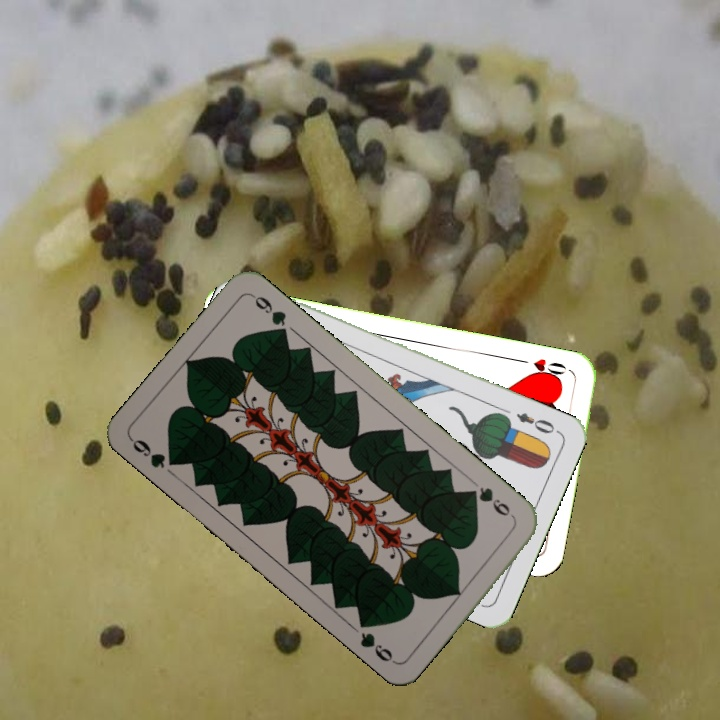EO: (512, 408, 558, 437)
G9: (464, 482, 518, 523), (126, 434, 183, 471)
HO: (514, 354, 569, 383)
